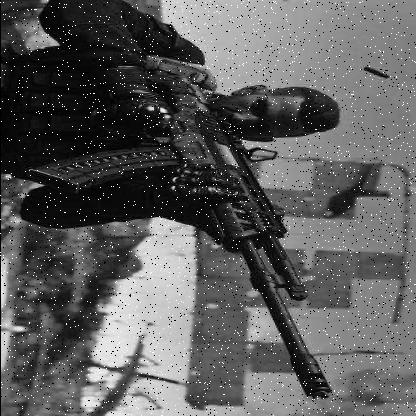rifle: (36, 77, 363, 399)
